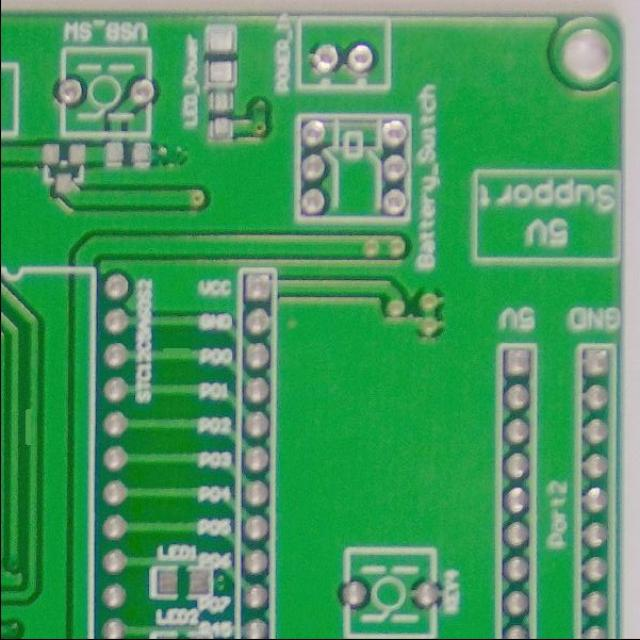spur: (18, 396, 43, 457), (159, 343, 197, 368)
